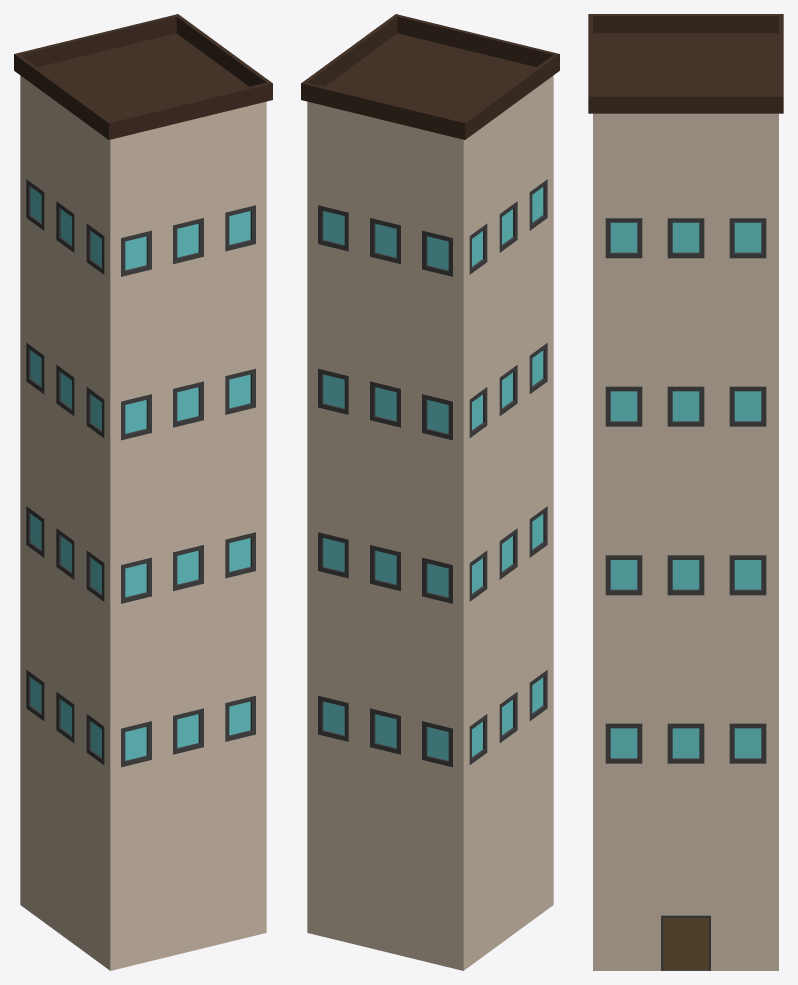
File: random res build 6.fbx
3 views of the same model, side by side, from view 1: azimuth 30°, elevation 25°; view 2: azimuth 150°, elevation 25°; view 3: azimuth 270°, elevation 25° (orthographic). The views are drawn at different scales.
Parts seen in each view (by area): view 1: building_006; view 2: building_006; view 3: building_006.
Part boxes in pixels (<box>): building_006: <box>14,14,272,970</box>; building_006: <box>301,14,559,970</box>; building_006: <box>588,14,783,970</box>.
Bounding box in the file's own units: 3929 × 19461 × 3929.
